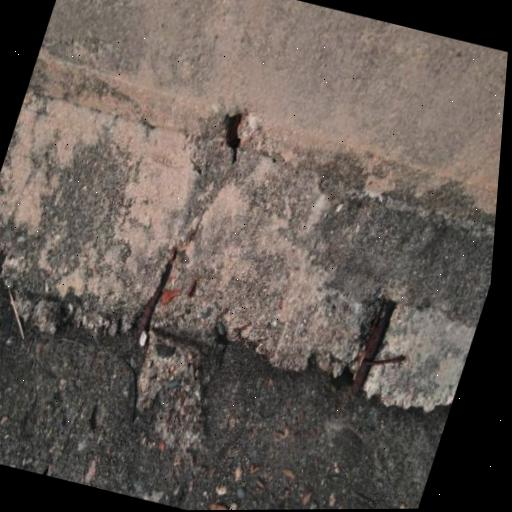exposed_rebar: (351, 301, 395, 395), (139, 247, 177, 330), (224, 114, 241, 148), (369, 355, 406, 367)
